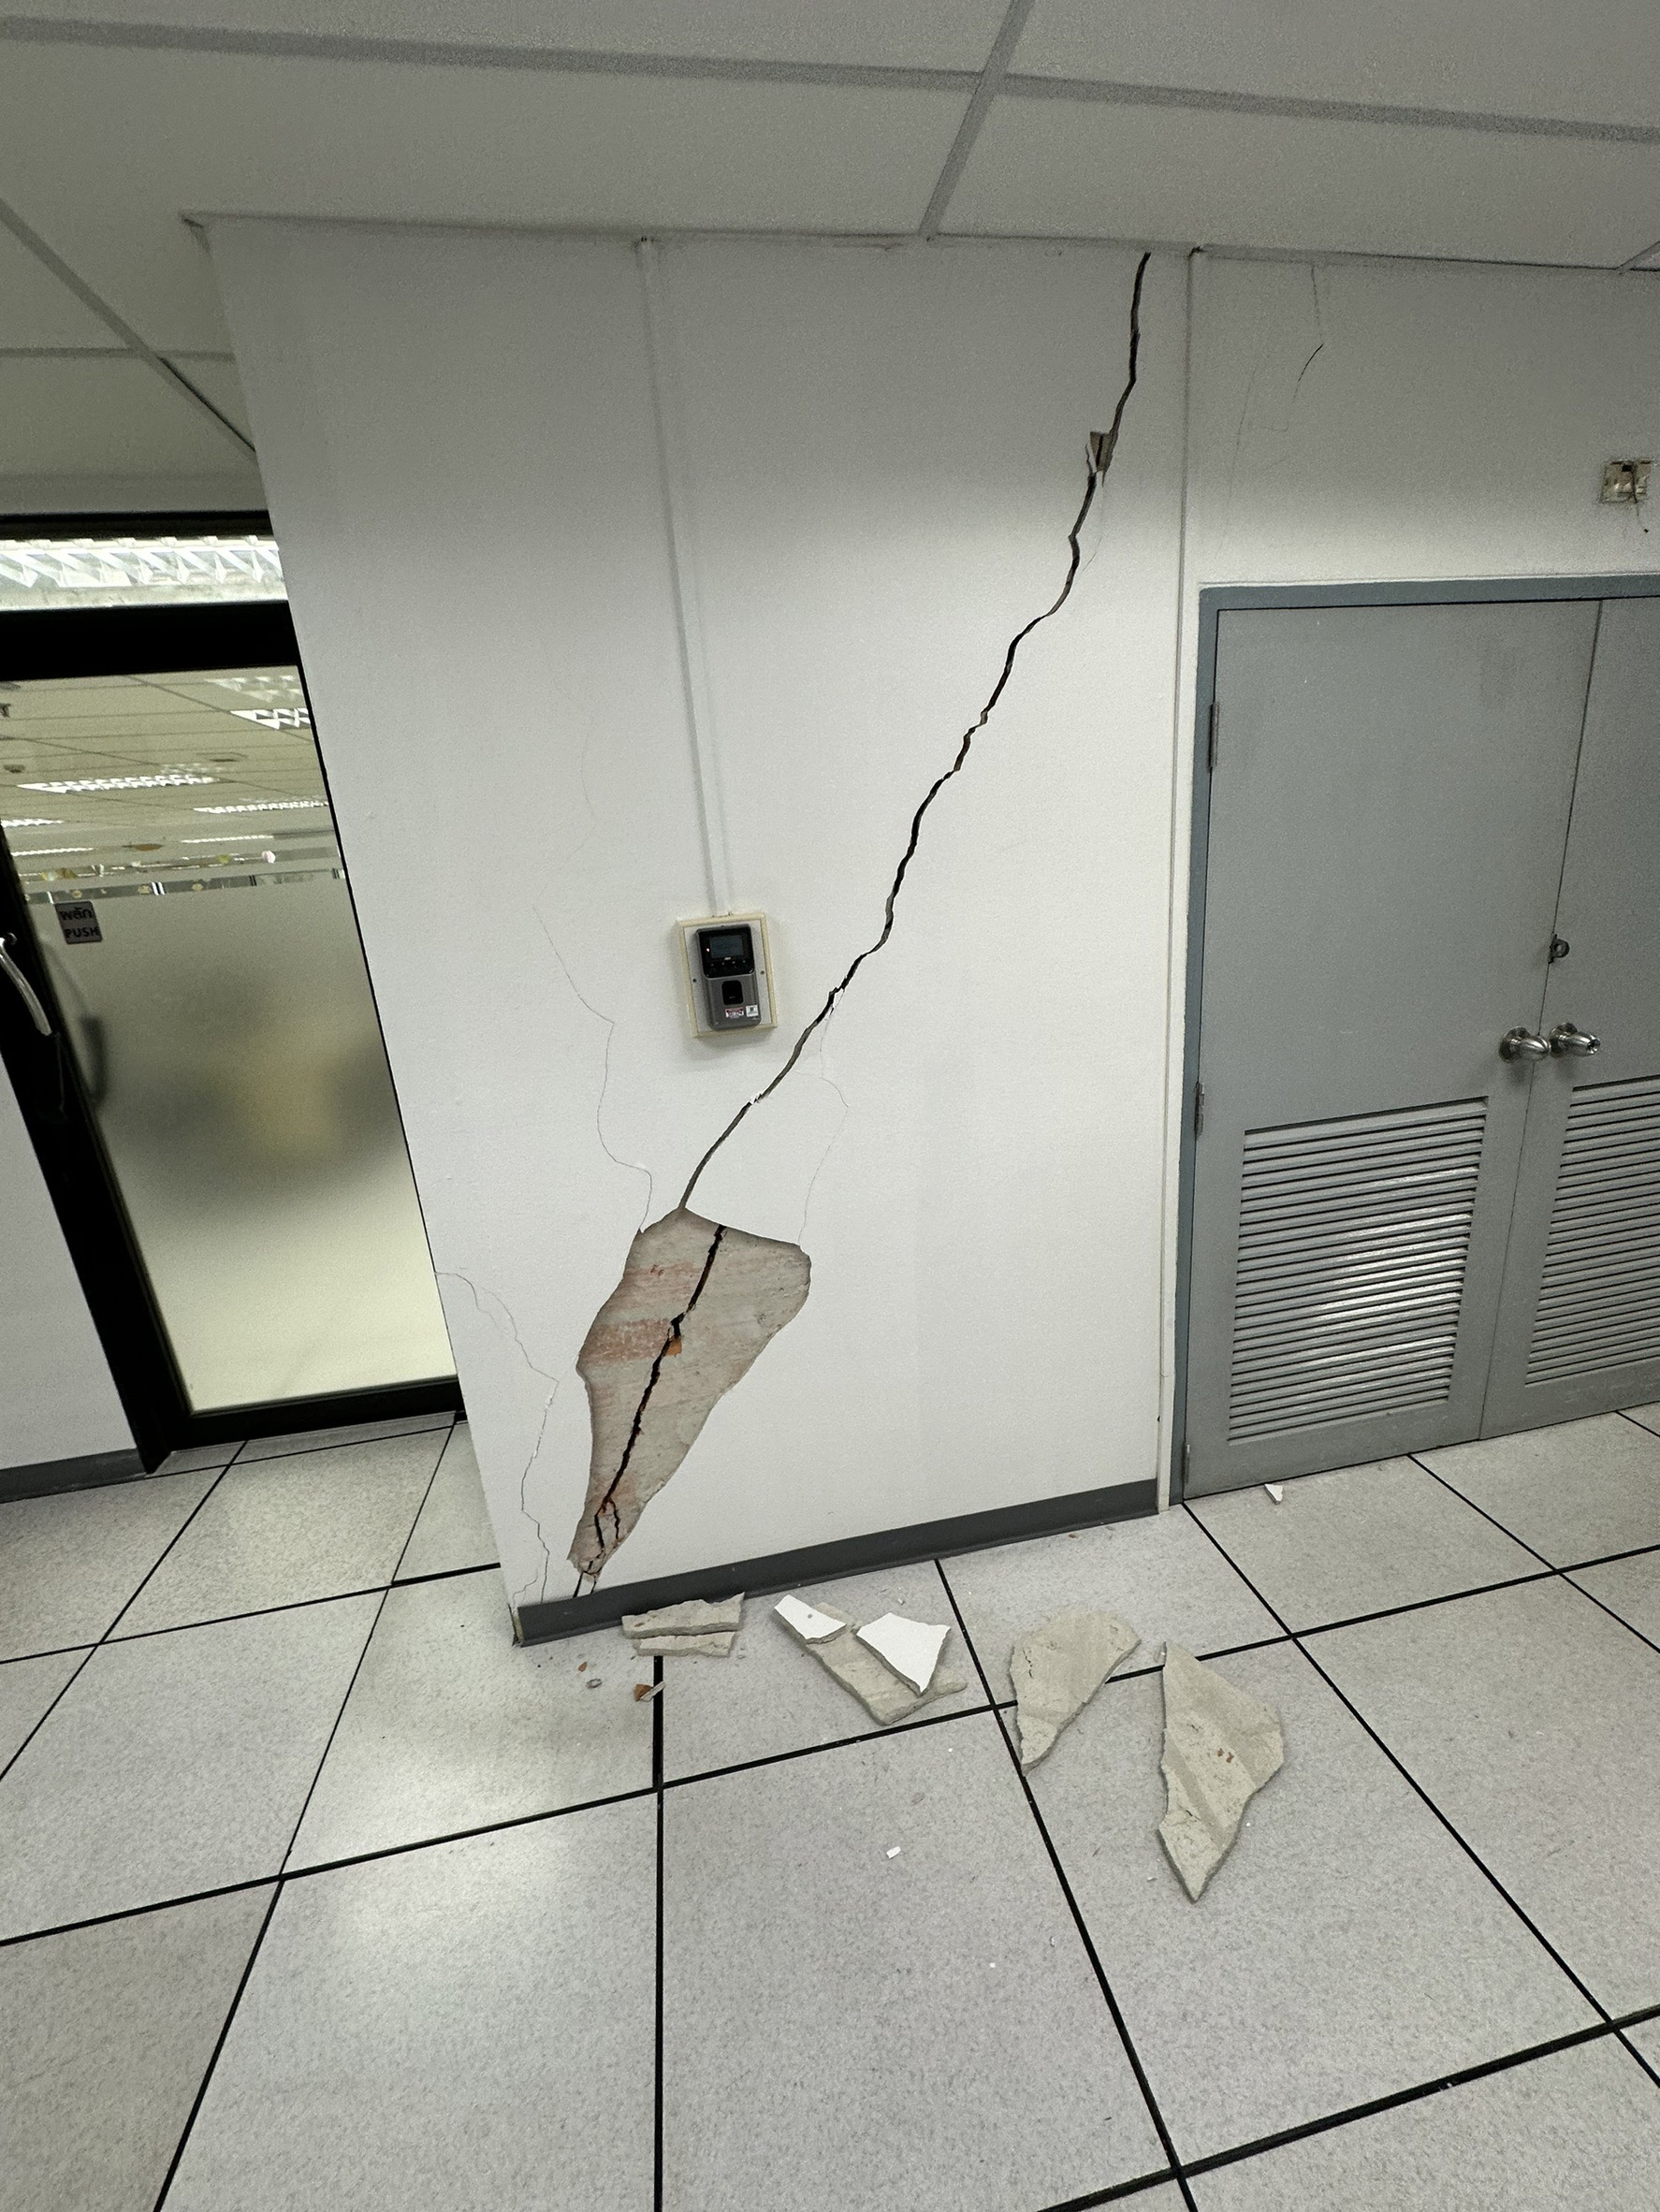Medium: (827, 345, 1125, 1121)
